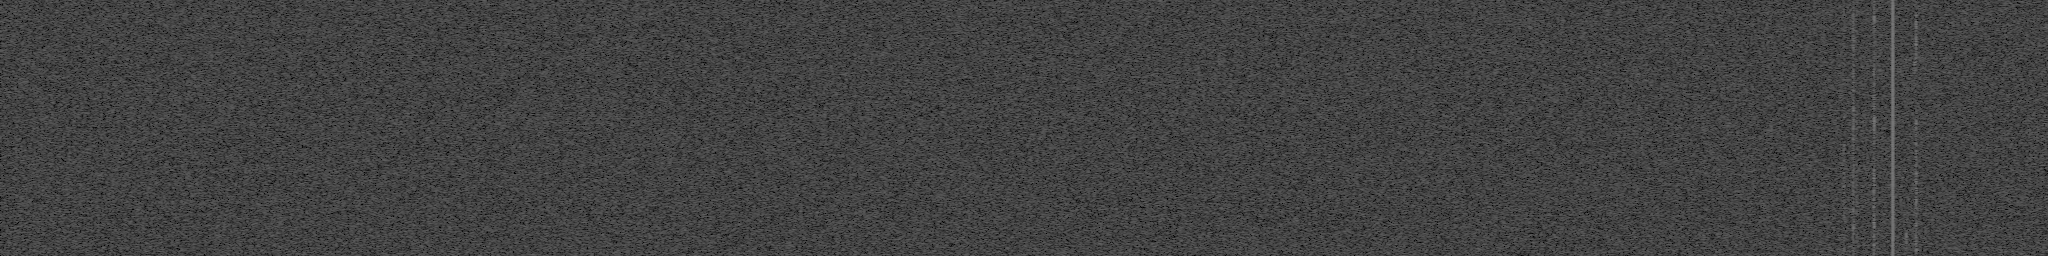wv_am: (1890, 0, 1896, 256)
wv_lsb: (1870, 158, 1877, 256), (1870, 90, 1877, 157), (1870, 1, 1877, 50), (1870, 51, 1877, 89)
wv_usb: (1851, 1, 1856, 256), (1913, 142, 1919, 256), (1913, 10, 1919, 81), (1853, 112, 1859, 182), (1855, 1, 1859, 69), (1855, 182, 1859, 242), (1842, 144, 1847, 182), (1913, 106, 1919, 141), (1842, 182, 1846, 221), (1842, 222, 1846, 253), (1904, 230, 1910, 252), (1912, 59, 1917, 78), (1842, 1, 1846, 20), (1842, 110, 1847, 121), (1842, 31, 1846, 47), (1913, 82, 1917, 94), (1913, 1, 1917, 10), (1855, 97, 1859, 103), (1842, 21, 1846, 27), (1904, 59, 1908, 64), (1855, 242, 1859, 247), (1855, 248, 1859, 252), (1842, 138, 1846, 142), (1842, 51, 1846, 55), (1906, 33, 1908, 38), (1913, 199, 1916, 204), (1913, 78, 1916, 84), (1913, 97, 1917, 99), (1855, 84, 1859, 86), (1913, 95, 1916, 98), (1913, 85, 1916, 88)
